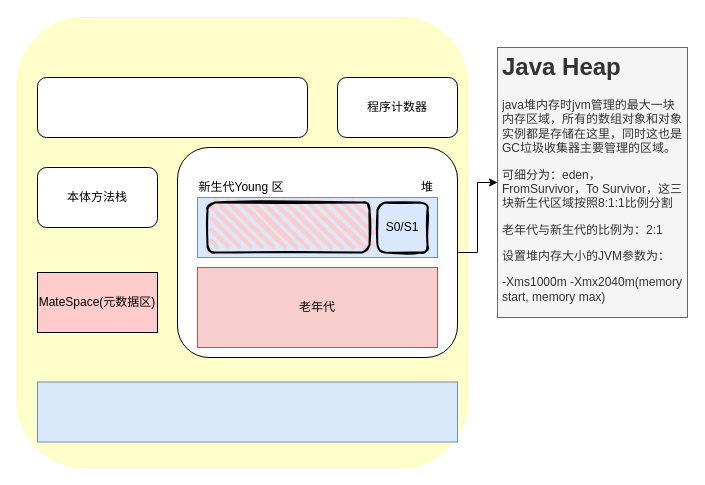
Some shapes in this 705 by 485 pixel diagram are drawn without their labels. Here are the shapes that lost their labels. From the top down, the centre of each, then its label:
At point 172,107: "虚拟机栈".
At point 288,227: "eden".
At point 247,411: "Direct Memory(直接内存)".
